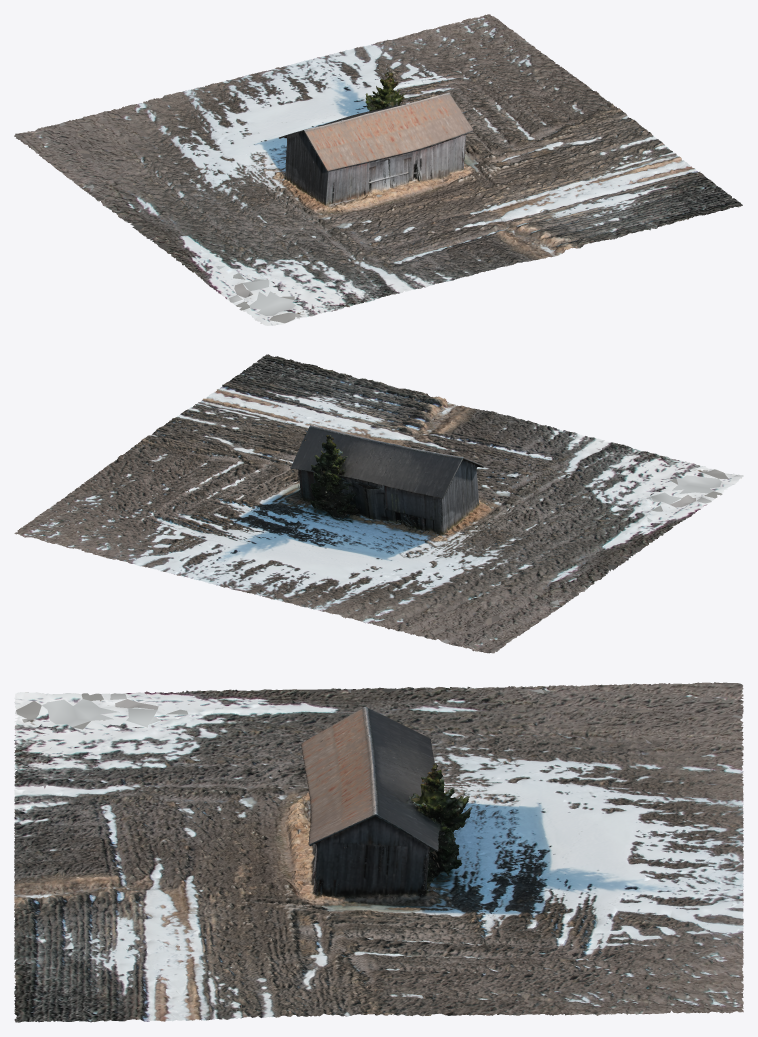
The model's file is old_barn.glb.
The picture shows the model from 3 angles, top to bottom: view 1: azimuth 30°, elevation 25°; view 2: azimuth 150°, elevation 25°; view 3: azimuth 270°, elevation 25°; orthographic projection. The views are drawn at different scales.
Parts seen in each view (by area): view 1: Lato-OBJ; view 2: Lato-OBJ; view 3: Lato-OBJ.
Part boxes in pixels (left/top/right/bottom): Lato-OBJ: left=14, top=14, right=742, bottom=325; Lato-OBJ: left=14, top=354, right=743, bottom=653; Lato-OBJ: left=14, top=682, right=743, bottom=1022.
Size of the model in its own units: 38.83 by 6.64 by 35.53.
Materials: 1 (1 with a texture image).
